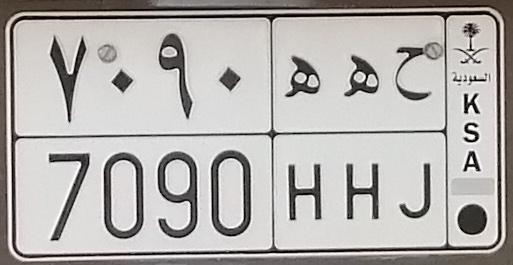0: (102, 67, 148, 241), (210, 63, 253, 238)
7: (47, 35, 91, 242)
9: (157, 32, 200, 239)
H: (285, 53, 325, 221), (342, 54, 380, 222)
J: (395, 46, 432, 219)
